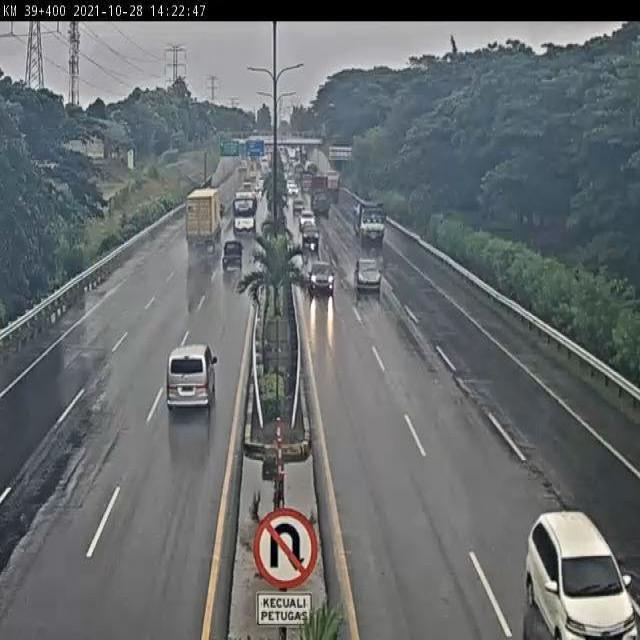car: (163, 340, 217, 415), (309, 260, 336, 300), (355, 257, 383, 295), (222, 237, 246, 275)
truck: (184, 184, 224, 256), (353, 201, 389, 248)
